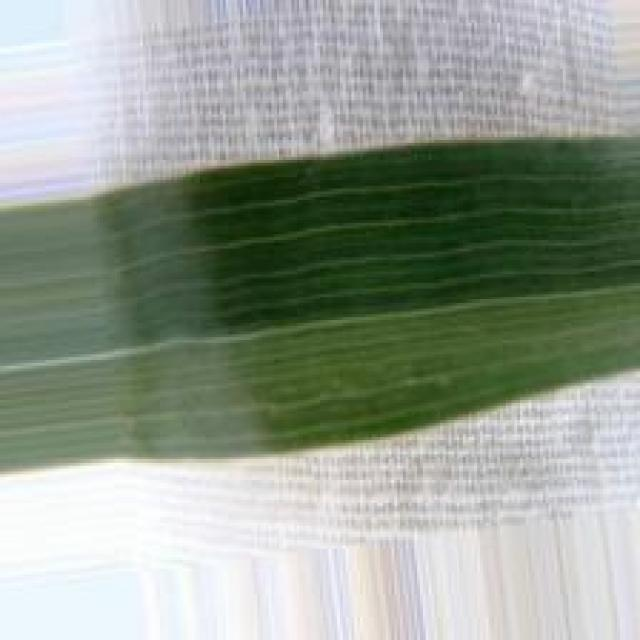Healthy: (0, 136, 640, 462)
